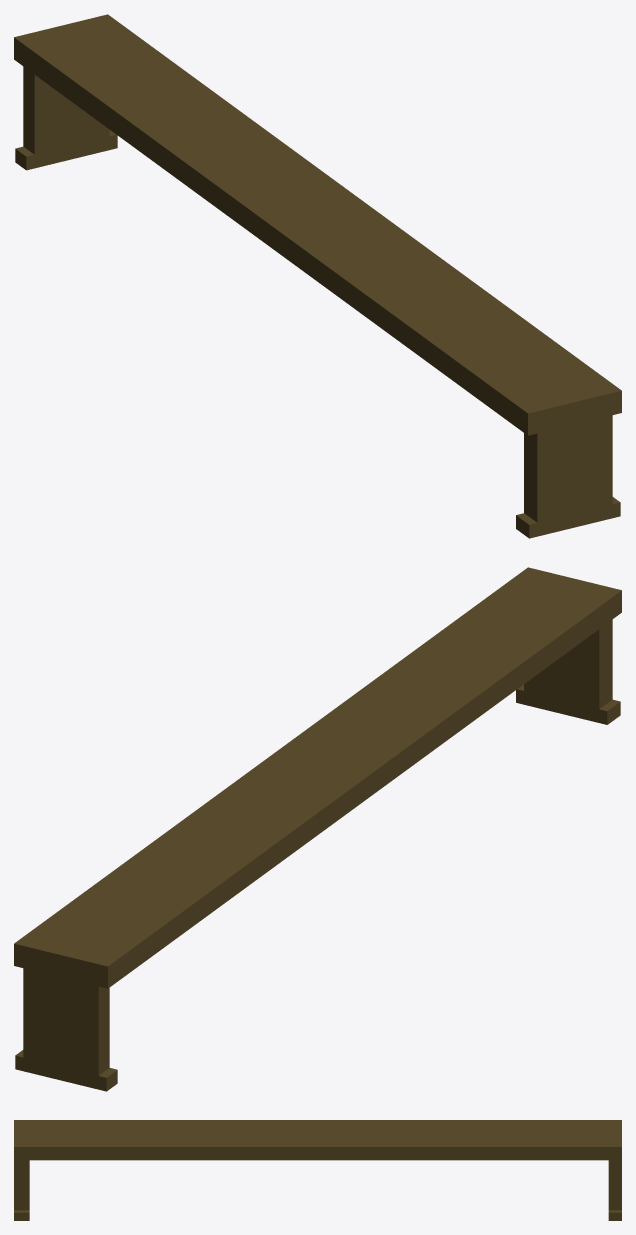
The model's file is banc_2.fbx.
3 renders of one model, top to bottom at view 1: azimuth 30°, elevation 25°; view 2: azimuth 150°, elevation 25°; view 3: azimuth 270°, elevation 25°, orthographic. The views are drawn at different scales.
Parts seen in each view (by area): view 1: Banc; view 2: Banc; view 3: Banc.
Part boxes in pixels (x1=…): Banc: x1=14, y1=14, x2=621, y2=538; Banc: x1=14, y1=567, x2=621, y2=1091; Banc: x1=14, y1=1120, x2=621, y2=1220.
Bounding box in the file's own units: 82.5 × 105 × 782.
